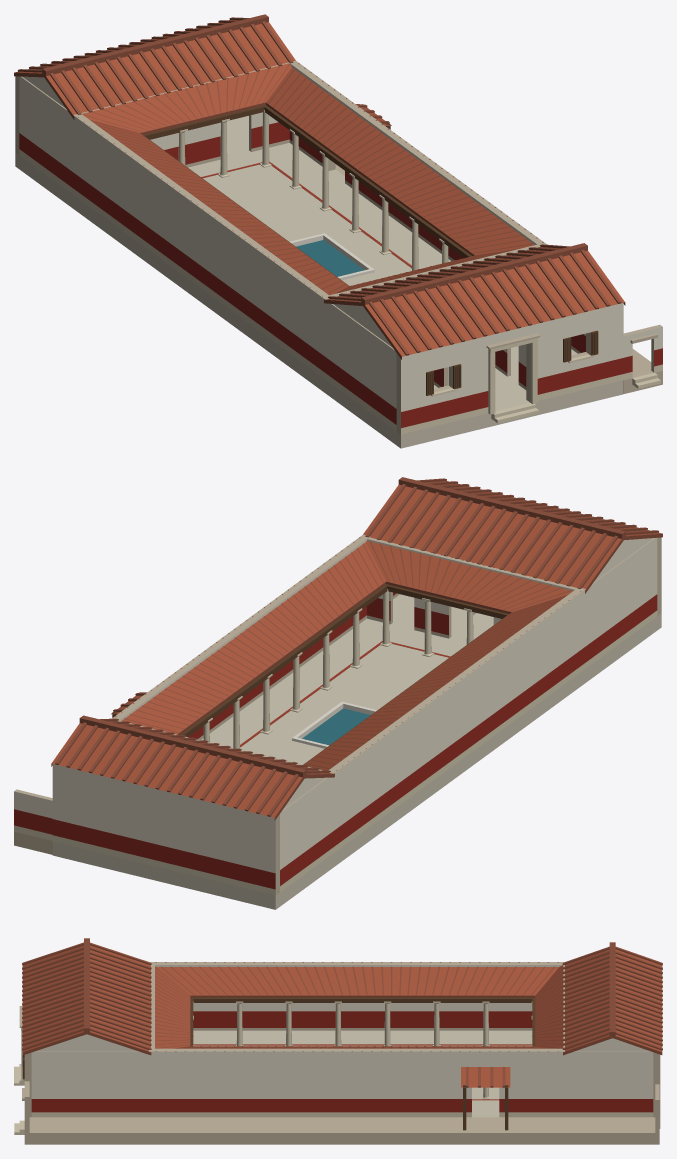
Rendered from rome_domus_m.glb.
3 views of the same model, one above another, from view 1: azimuth 30°, elevation 25°; view 2: azimuth 150°, elevation 25°; view 3: azimuth 270°, elevation 25° (orthographic). The views are drawn at different scales.
Visible parts, largest first — view 1: rome_domus_m; view 2: rome_domus_m; view 3: rome_domus_m.
Boxes of the visible parts, bbox=[...] form: rome_domus_m: bbox=[14, 14, 662, 448]; rome_domus_m: bbox=[14, 477, 662, 909]; rome_domus_m: bbox=[14, 938, 662, 1144].
Size of the model in its own units: 14.96 by 6.67 by 38.91.
